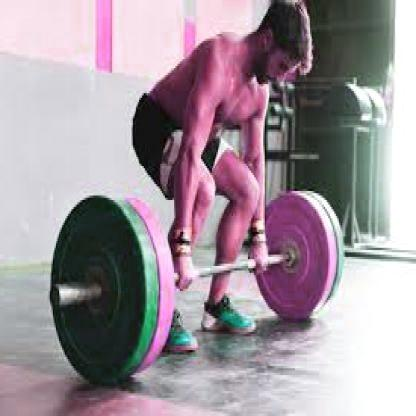Barbell: (43, 278, 65, 313)
